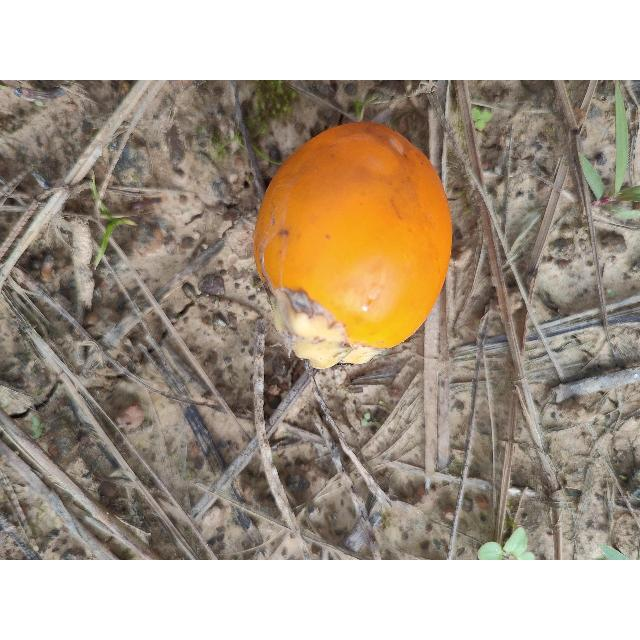good: (252, 122, 453, 369)
